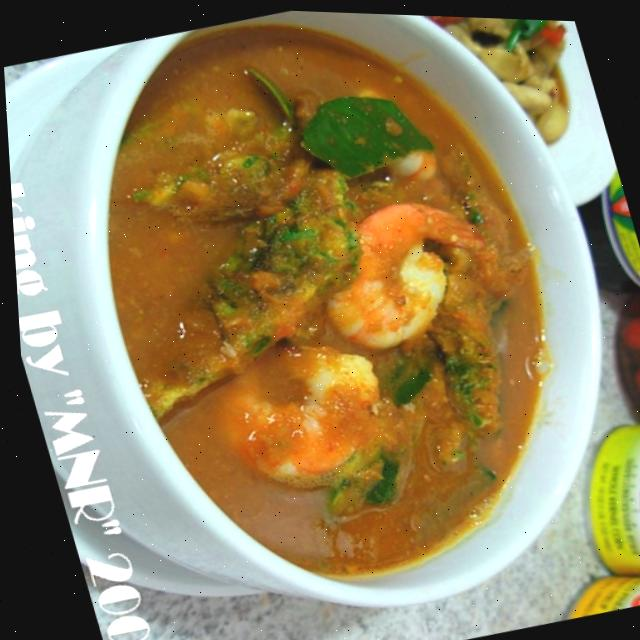汤锅炖物: (24, 1, 631, 631)
